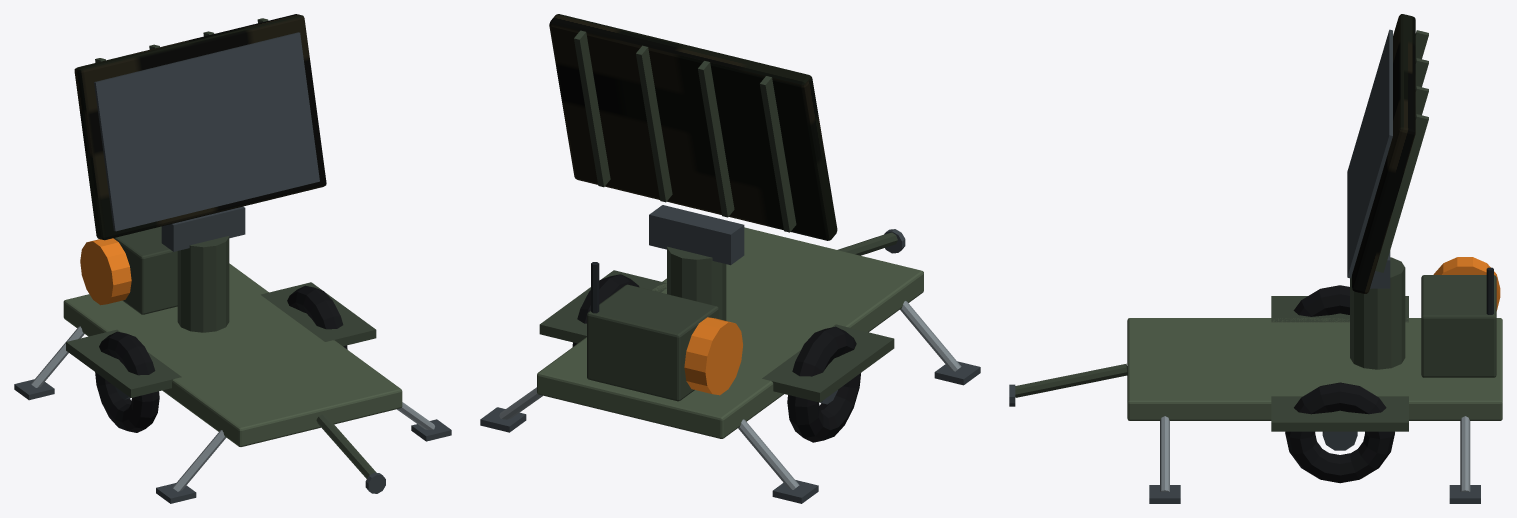
Rendered from sns_radar_trailer.glb.
3 renders of one model, left to right at view 1: azimuth 30°, elevation 25°; view 2: azimuth 150°, elevation 25°; view 3: azimuth 270°, elevation 25°, orthographic. The views are drawn at different scales.
Visible parts, largest first — view 1: SNS_RADAR_TRAILER; view 2: SNS_RADAR_TRAILER; view 3: SNS_RADAR_TRAILER.
Part boxes in pixels (x1=…): SNS_RADAR_TRAILER: x1=14, y1=14, x2=451, y2=503; SNS_RADAR_TRAILER: x1=480, y1=14, x2=980, y2=503; SNS_RADAR_TRAILER: x1=1009, y1=14, x2=1502, y2=503.
Bounding box in the file's own units: 2.75 × 3.2 × 3.95.
8 materials, 1 textured.
